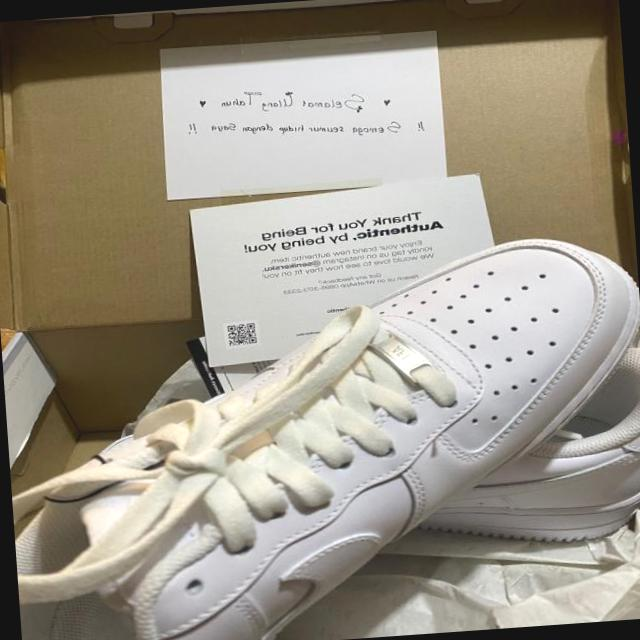nike_original_airforce: (0, 227, 640, 640)
